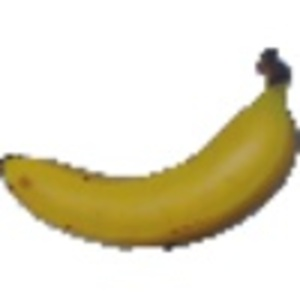banana: (1, 48, 296, 246)
